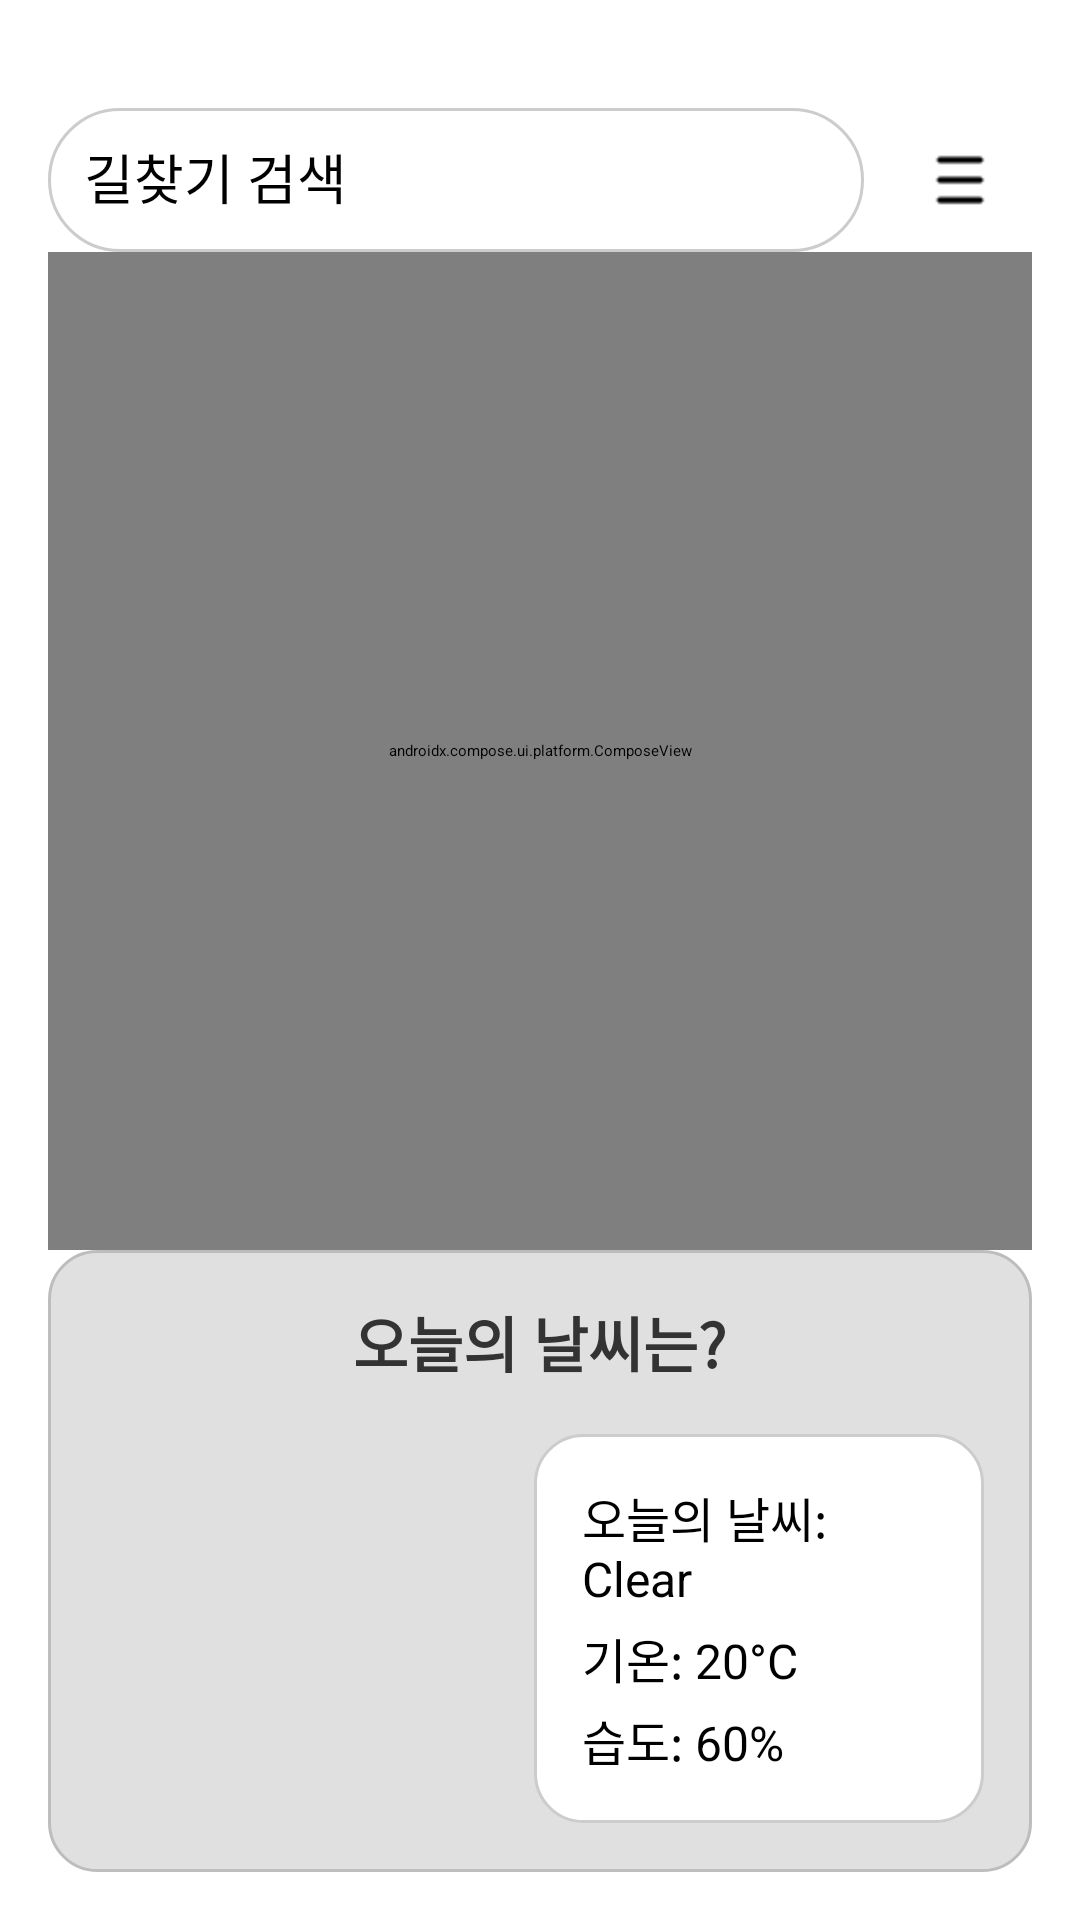

Named icons in this screenshot (1080×1920) and their bounding boxes, {"x1": x1, "y1": y1, "x2": x2, "y2": y2}:
메뉴 버튼: {"x1": 935, "y1": 155, "x2": 985, "y2": 205}
